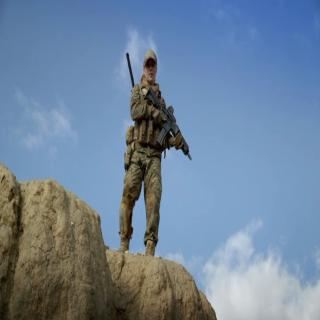gun: (142, 76, 196, 167)
